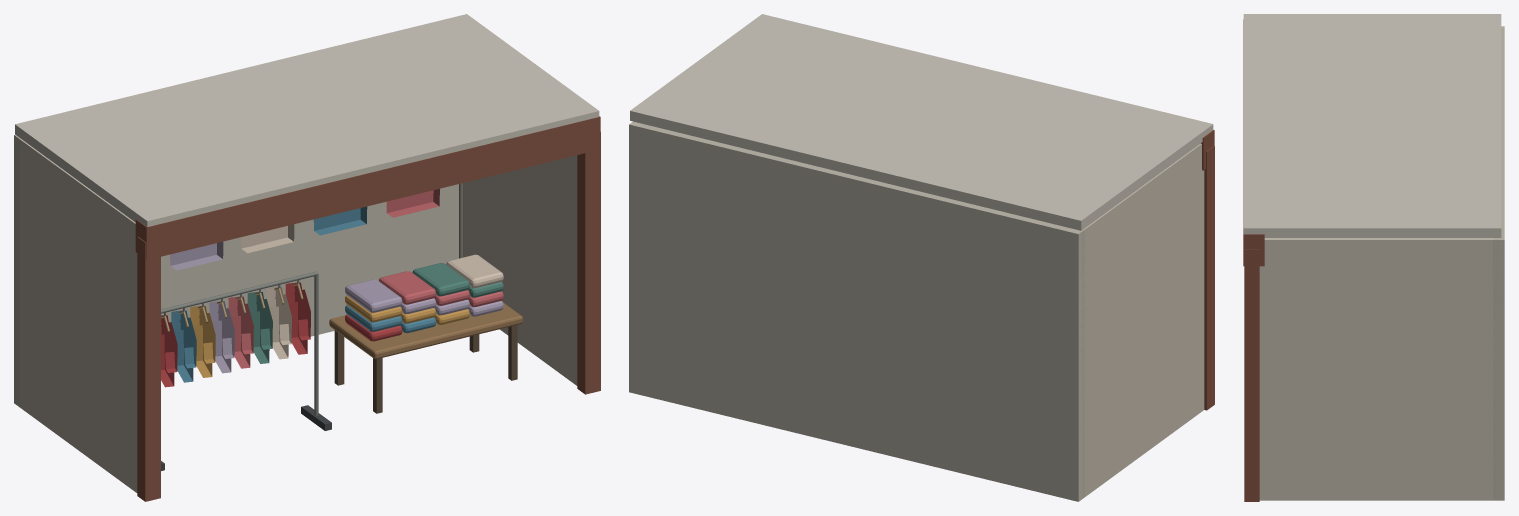
The model's file is Children.glb.
3 renders of one model, left to right at view 1: azimuth 30°, elevation 25°; view 2: azimuth 150°, elevation 25°; view 3: azimuth 270°, elevation 25°, orthographic. The views are drawn at different scales.
Visible parts, largest first — view 1: Children; view 2: Children; view 3: Children.
Boxes of the visible parts, x1,y1,x2,y2 form: Children: (14,14,600,501); Children: (629,14,1214,501); Children: (1243,14,1504,501).
Size of the model in its own units: 5.26 by 3.1 by 2.69.
